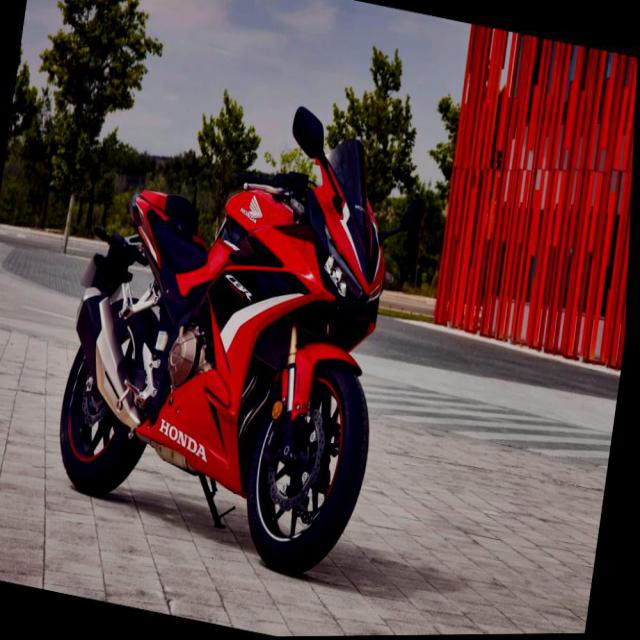CBR500R: (47, 79, 413, 589)
